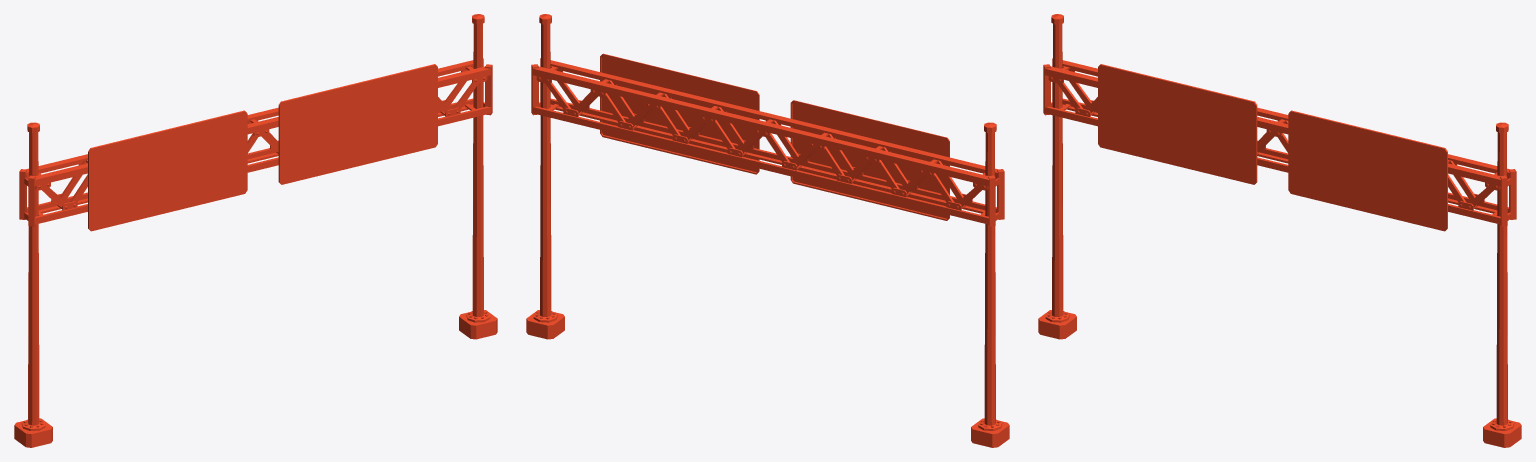
File: SM_Sign_Gantry_Normal_B_City.fbx
3 renders of one model, left to right at view 1: azimuth 30°, elevation 25°; view 2: azimuth 150°, elevation 25°; view 3: azimuth 330°, elevation 25°, orthographic.
Visible parts, largest first — view 1: SM_Sign_Gantry_Normal_B_City; view 2: SM_Sign_Gantry_Normal_B_City; view 3: SM_Sign_Gantry_Normal_B_City.
Part boxes in pixels (bbox=[...]): SM_Sign_Gantry_Normal_B_City: bbox=[14, 14, 497, 447]; SM_Sign_Gantry_Normal_B_City: bbox=[526, 14, 1009, 447]; SM_Sign_Gantry_Normal_B_City: bbox=[1038, 14, 1521, 447].
Size of the model in its own units: 14.85 by 9.5 by 0.8509.
